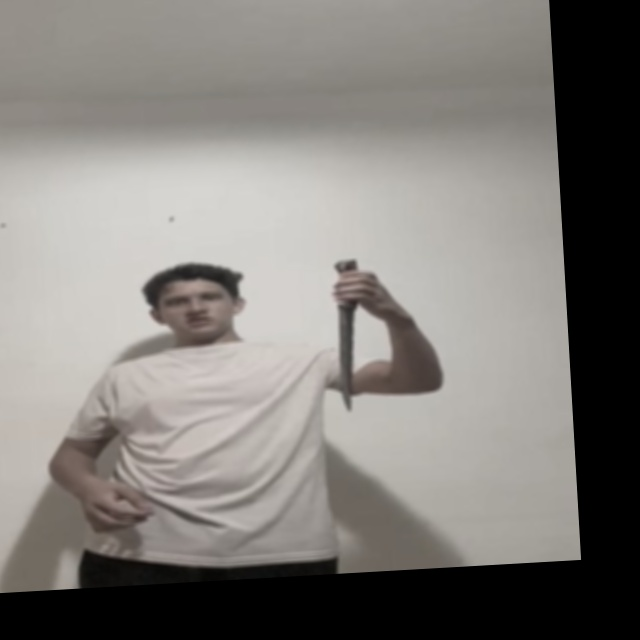Sharp-Object: (332, 305, 361, 412)
